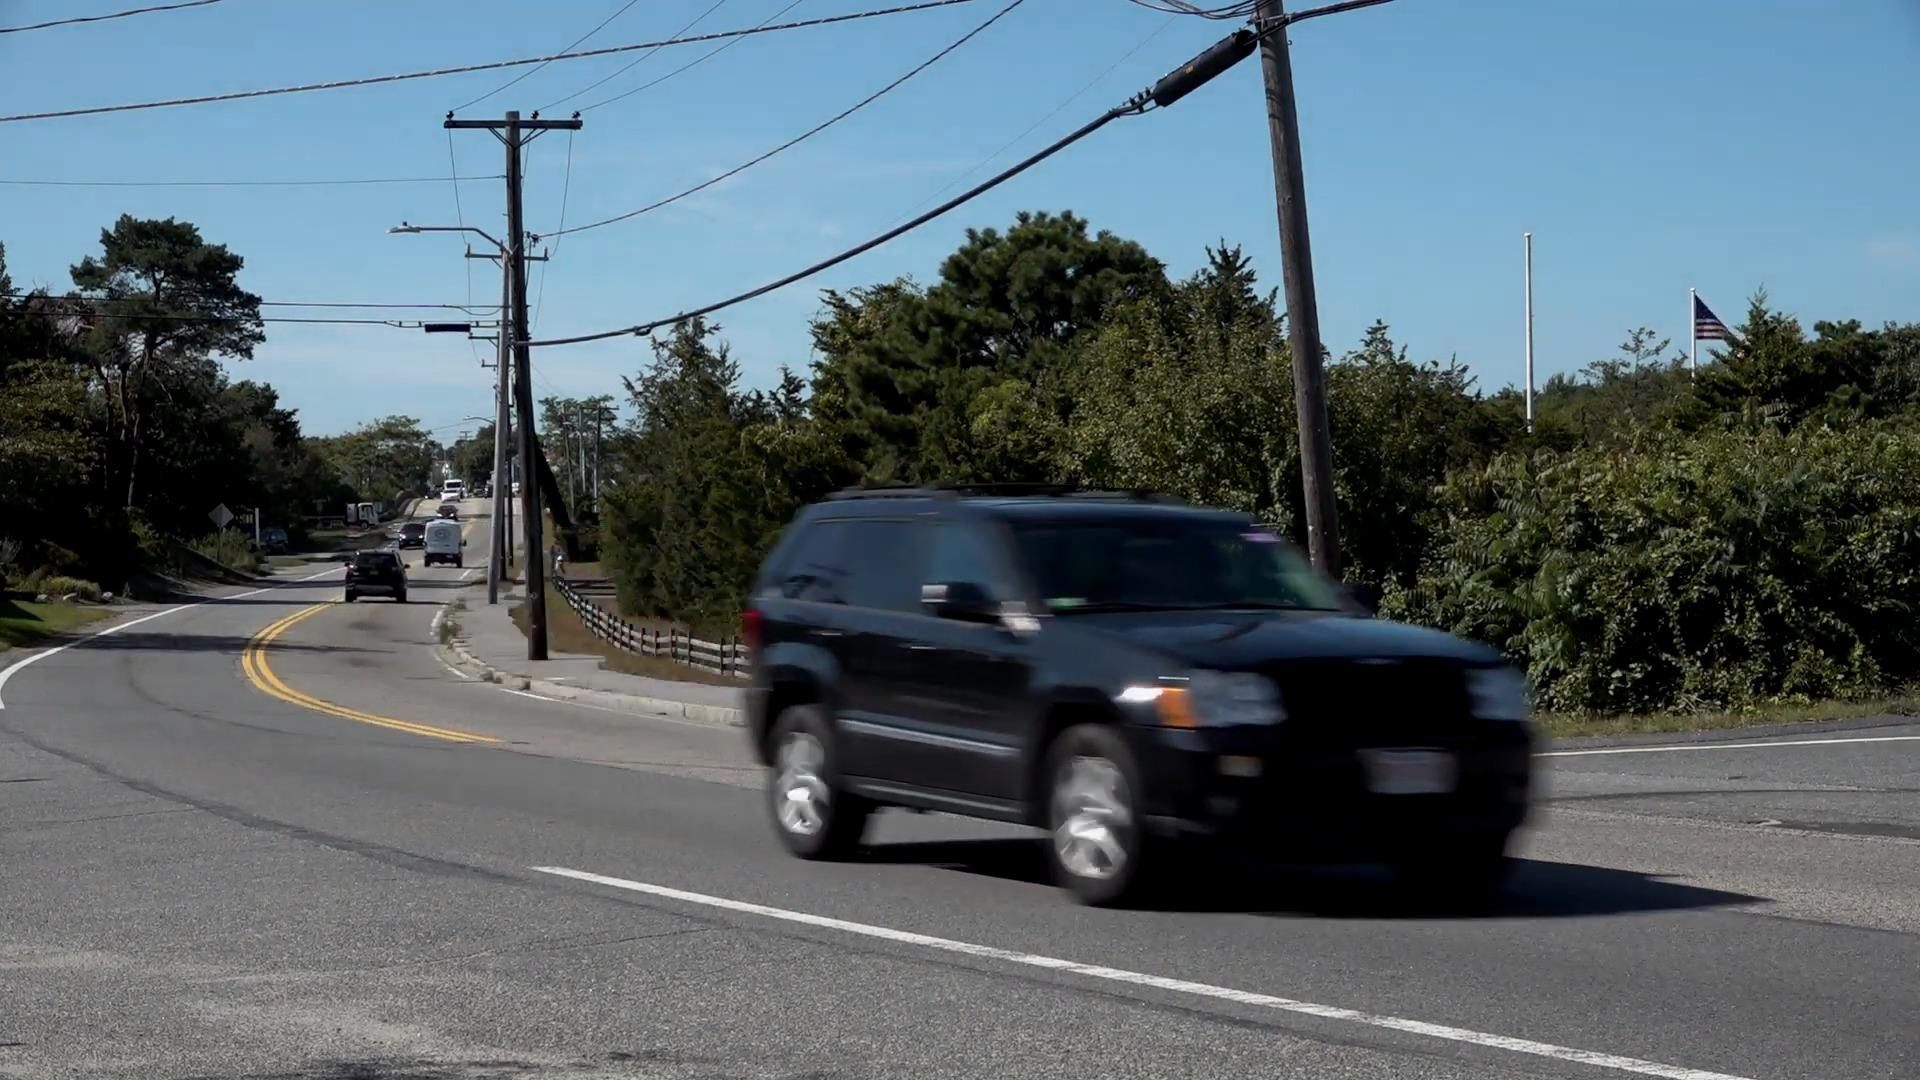suv: (746, 485, 1540, 905)
